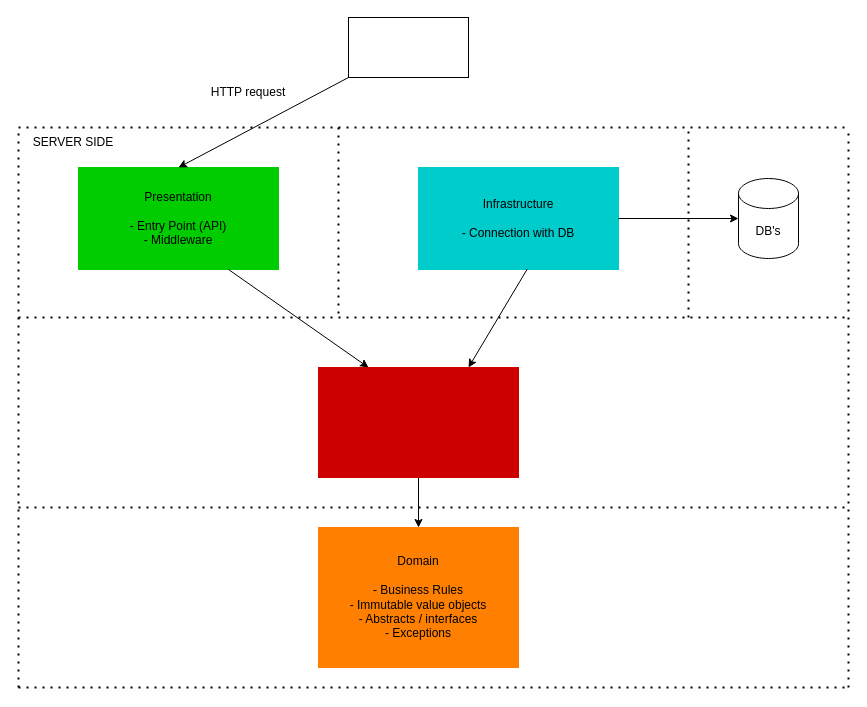
This 867x707 diagram has some shape labels left out. The shapes that lost their labels are listed below. From the top down, each one's centre as x and y in pixels, then its label:
(408,47): CLIENT SIDE
(418,422): Applicati on - Business Rules Implement - Services - verification systems
